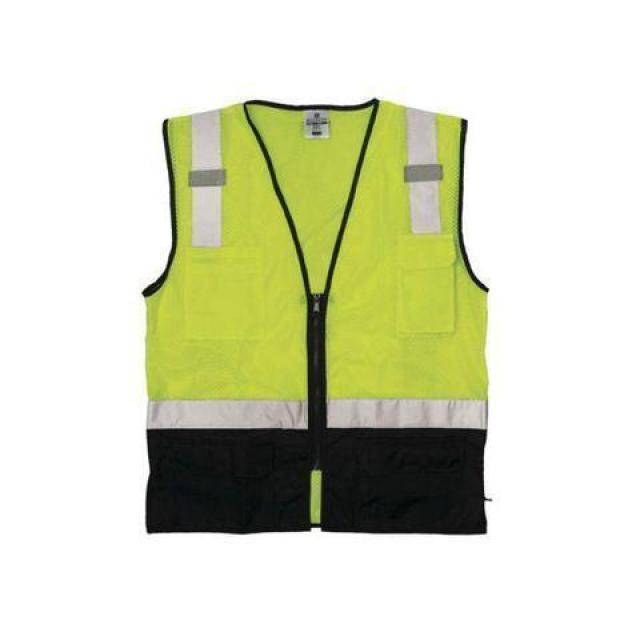Vest: (138, 96, 490, 540)
